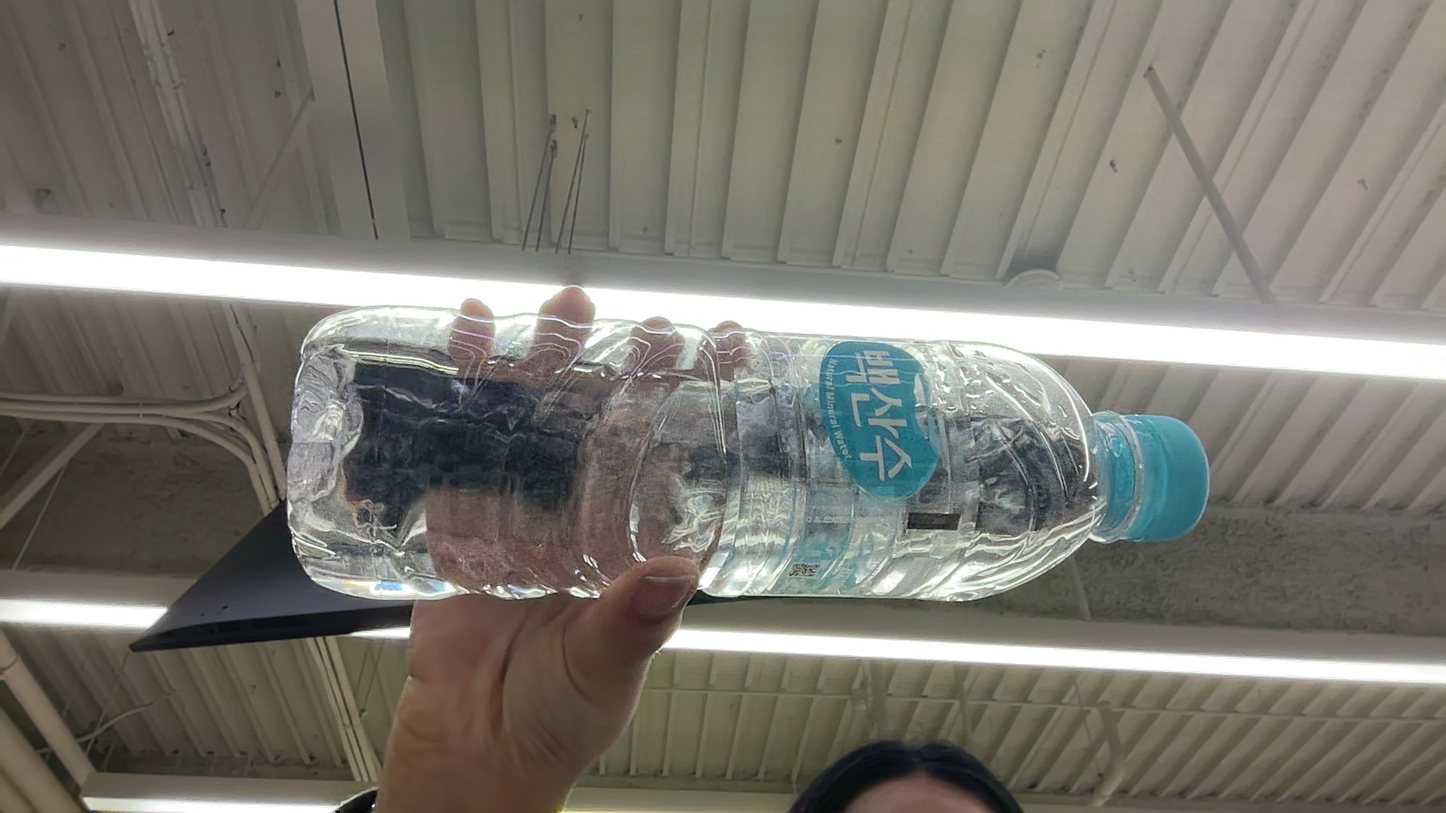Plastic: (3, 402, 273, 608)
